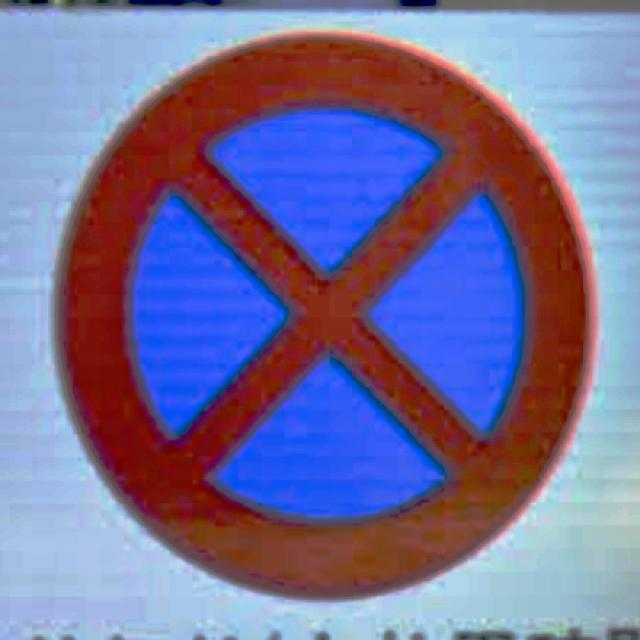nopark: (57, 32, 595, 602)
